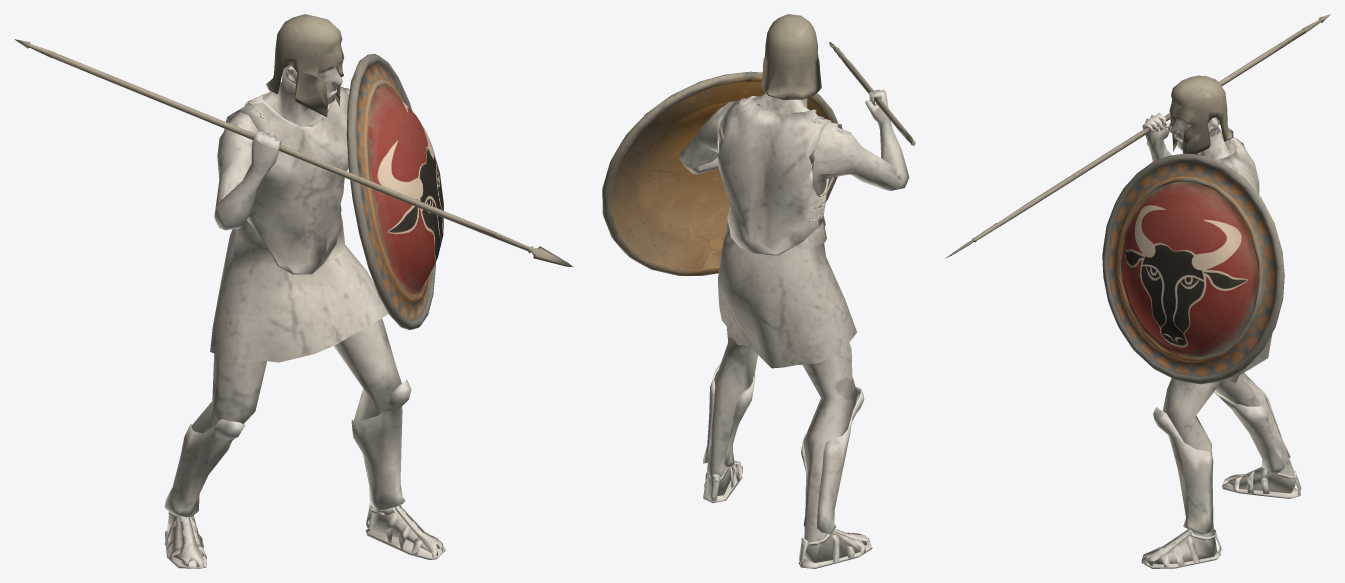
Rendered from mdl_Krank_WARRIORPAINTED2.gltf.
The picture shows the model from 3 angles, left to right: view 1: azimuth 30°, elevation 25°; view 2: azimuth 150°, elevation 25°; view 3: azimuth 270°, elevation 25°; orthographic projection. The views are drawn at different scales.
Parts seen in each view (by area): view 1: Body, Shield; view 2: Body, Shield; view 3: Shield, Body.
Boxes of the visible parts, left/top/right/bottom form: Body: left=14, top=14, right=573, bottom=568; Shield: left=346, top=53, right=443, bottom=329; Body: left=679, top=14, right=915, bottom=568; Shield: left=602, top=71, right=838, bottom=275; Shield: left=1102, top=153, right=1284, bottom=384; Body: left=945, top=14, right=1330, bottom=568.
Size of the model in its own units: 6.11 by 8.34 by 6.55.
3 materials, 3 textured.
